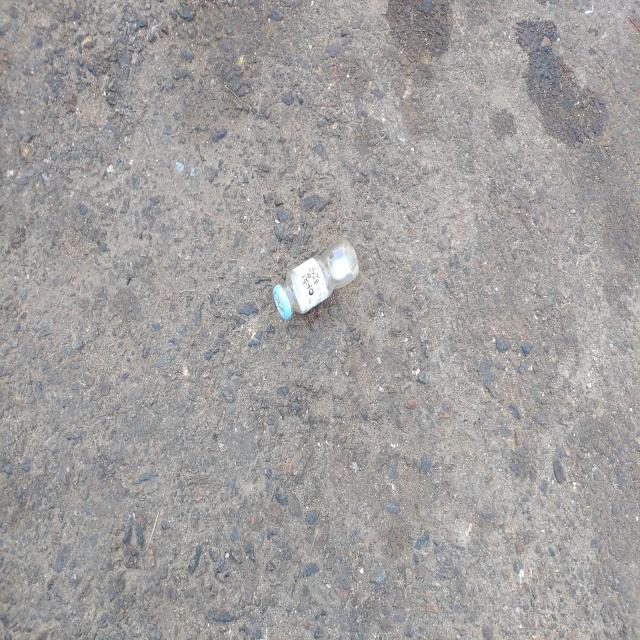glass: (273, 239, 359, 319)
